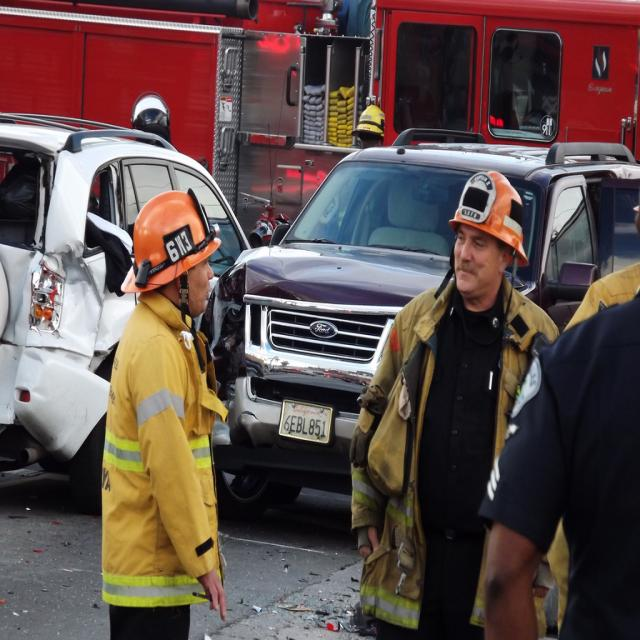no_fire: (0, 65, 630, 603)
